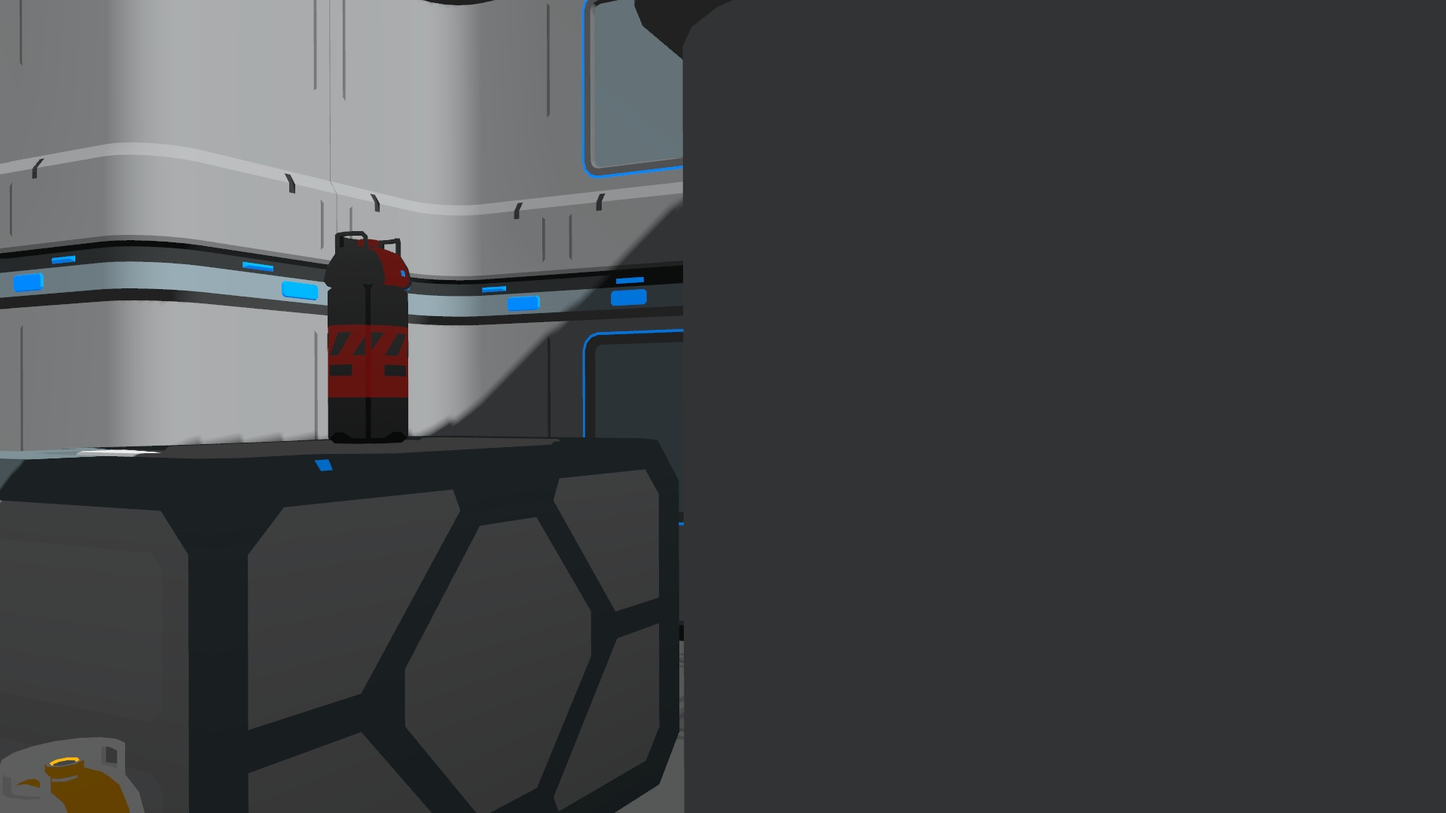red_barrel: (323, 225, 414, 450)
yellow_barrel: (7, 733, 142, 813)
